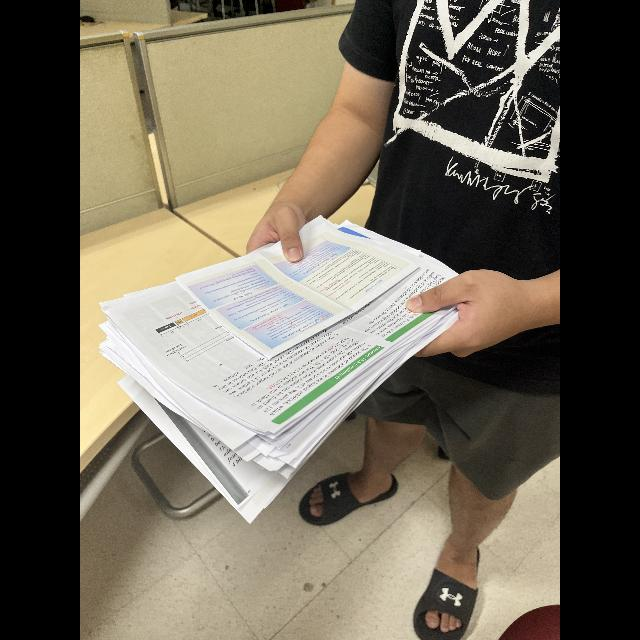reuseable_paper: (96, 212, 478, 522)
